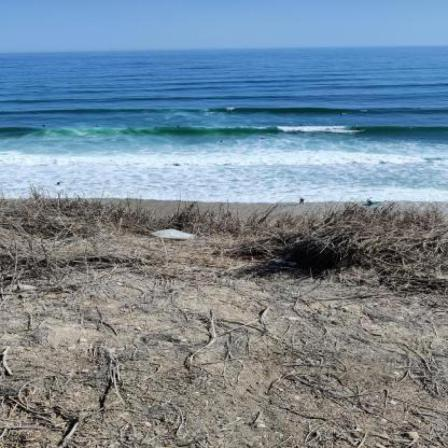Plastic bag - wrapper: (151, 229, 196, 240)
Unlabeled litter: (276, 261, 299, 267)
